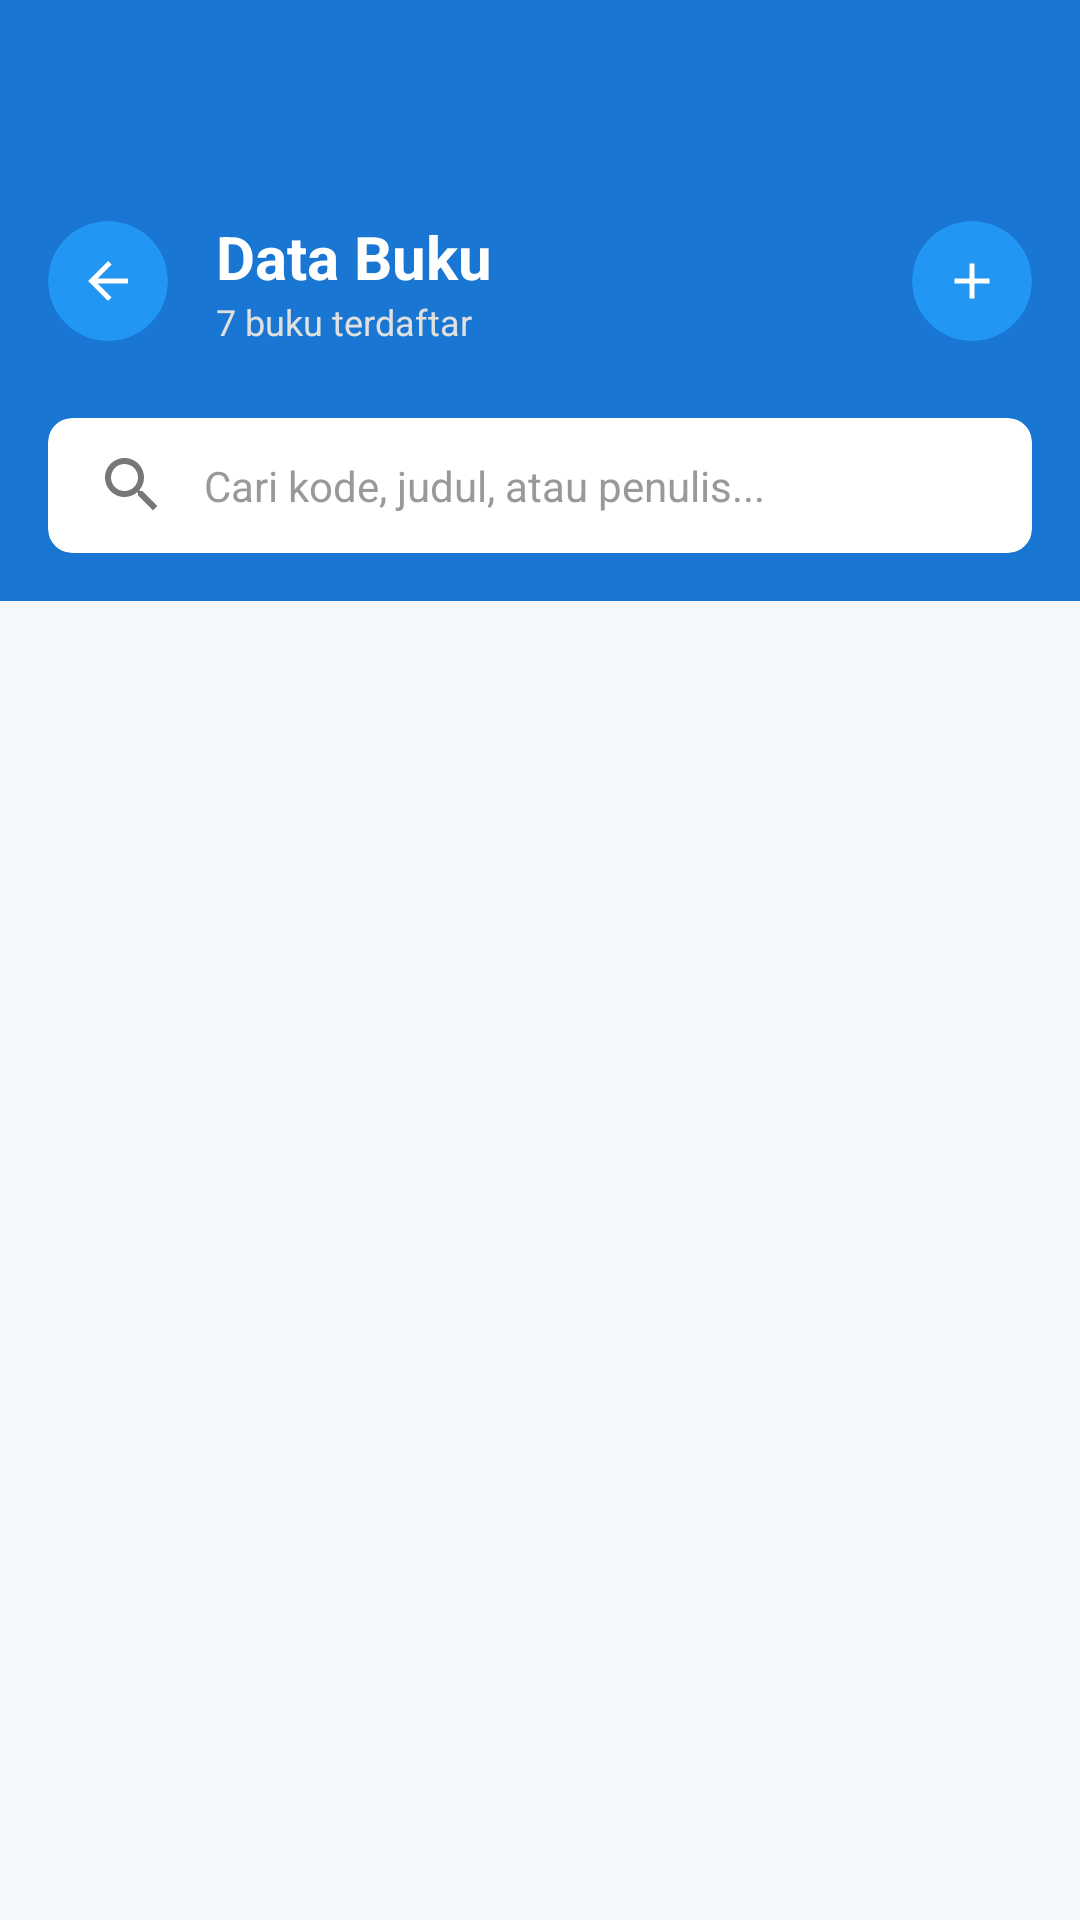

Named icons in this screenshot (1080w x 1920h) and their bounding boxes, [x1, y1, x2, y2]:
add: [954, 263, 990, 299]
arrow back: [88, 261, 128, 301]
